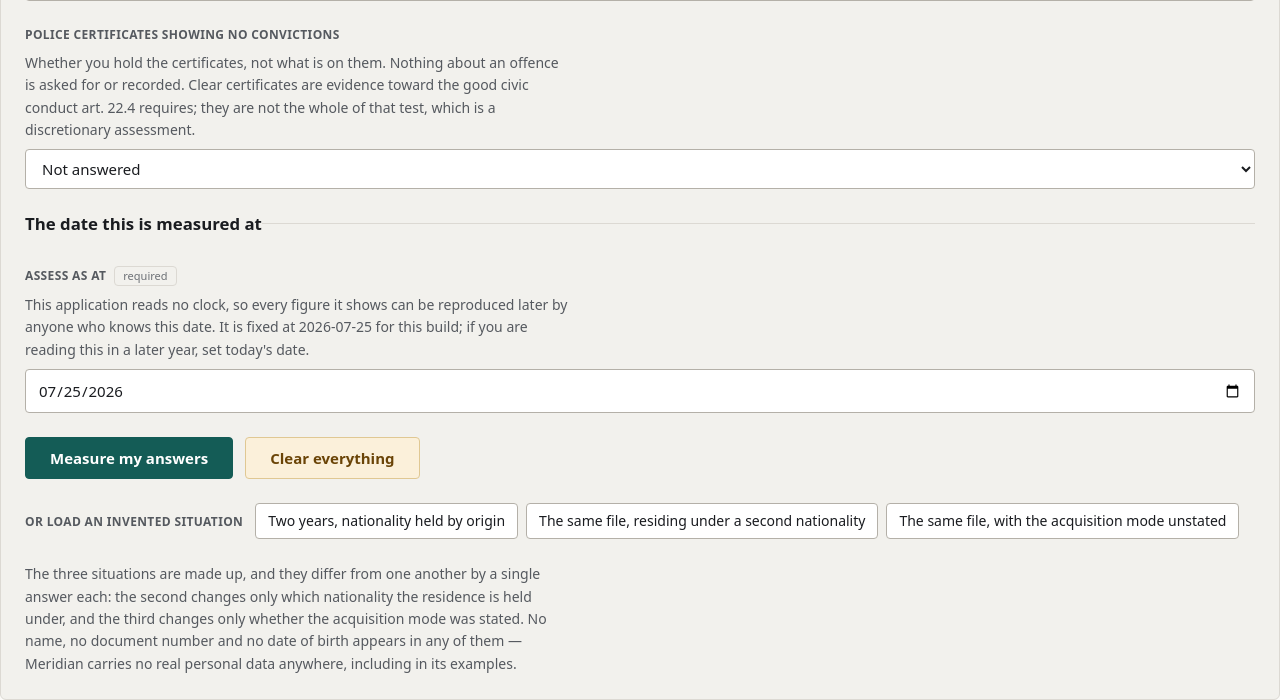
Test: the three cases, on screen › says in words why an unstated acquisition mode holds the route open
(page scrolled)
Click the button "The same file, with the acquisition mode unstated".
click(1063, 521)  # box [886,503,1240,539]
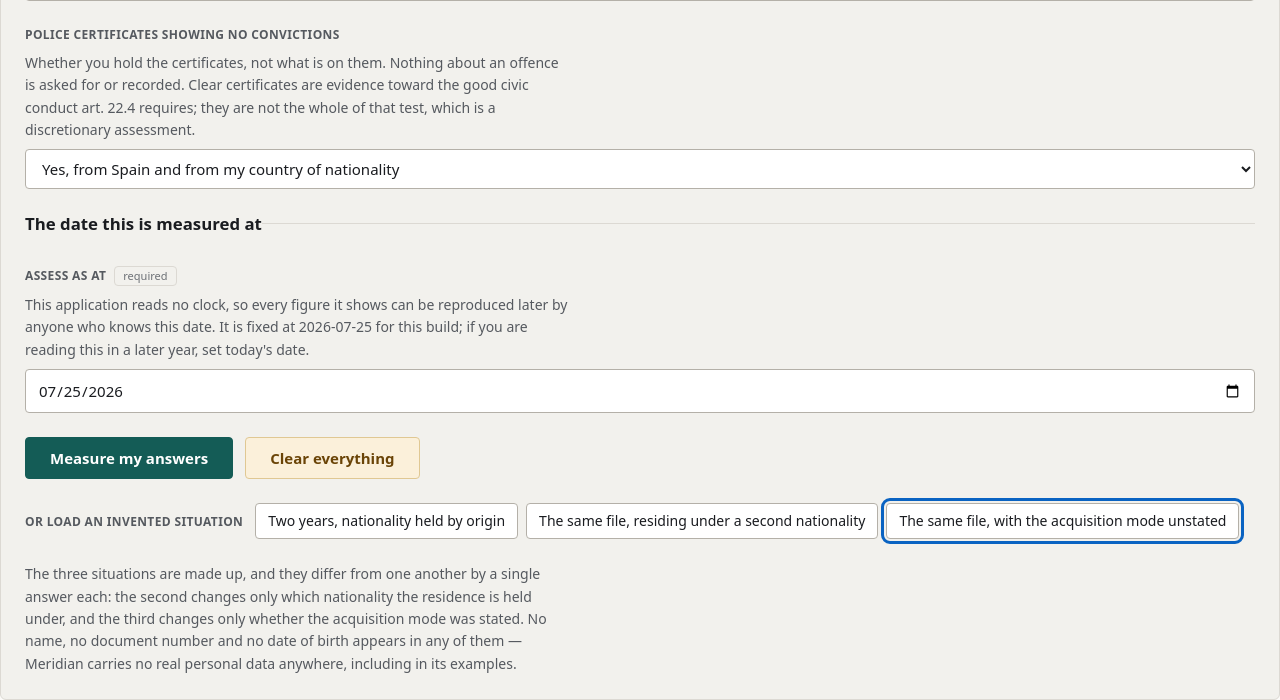
Click the button "Measure my answers".
click(129, 458)  # box [25,437,233,479]
(page scrolled)
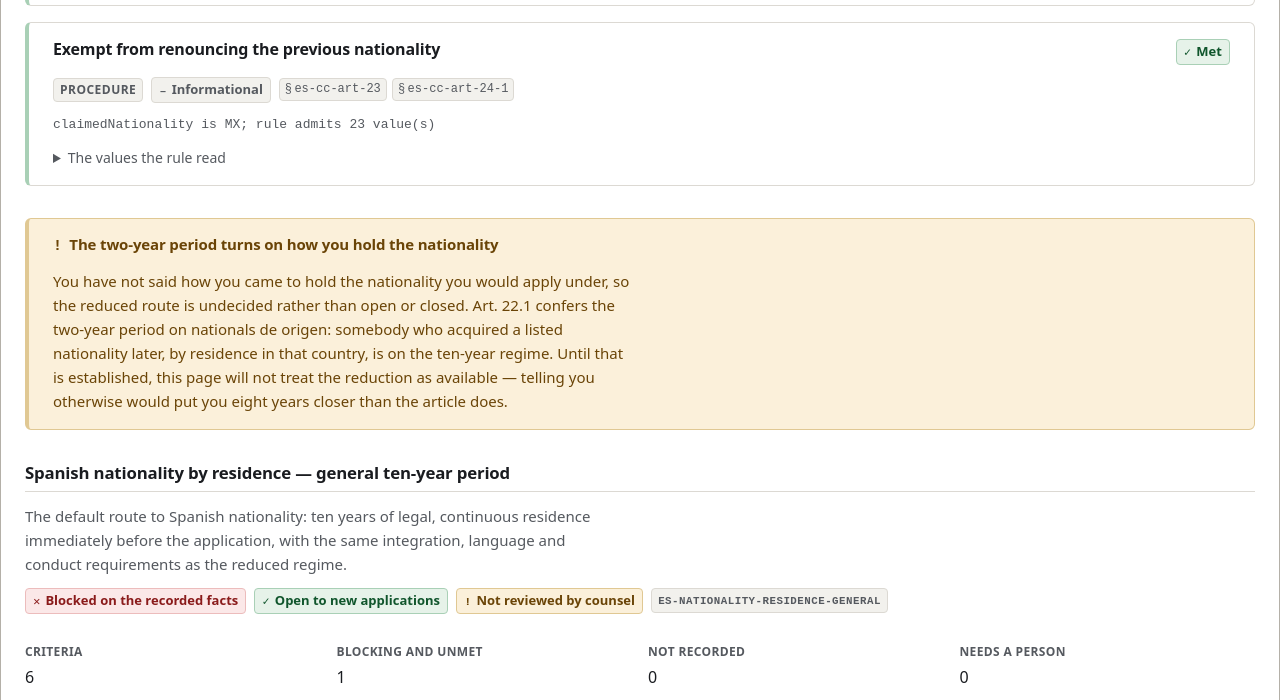
Check: the heading "! The two-year period turns on how you hold the nationality" is shown, box [53,234,498,255]
Check: the text "would put you eight years closer than the article does" is shown, box [53,271,629,411]
